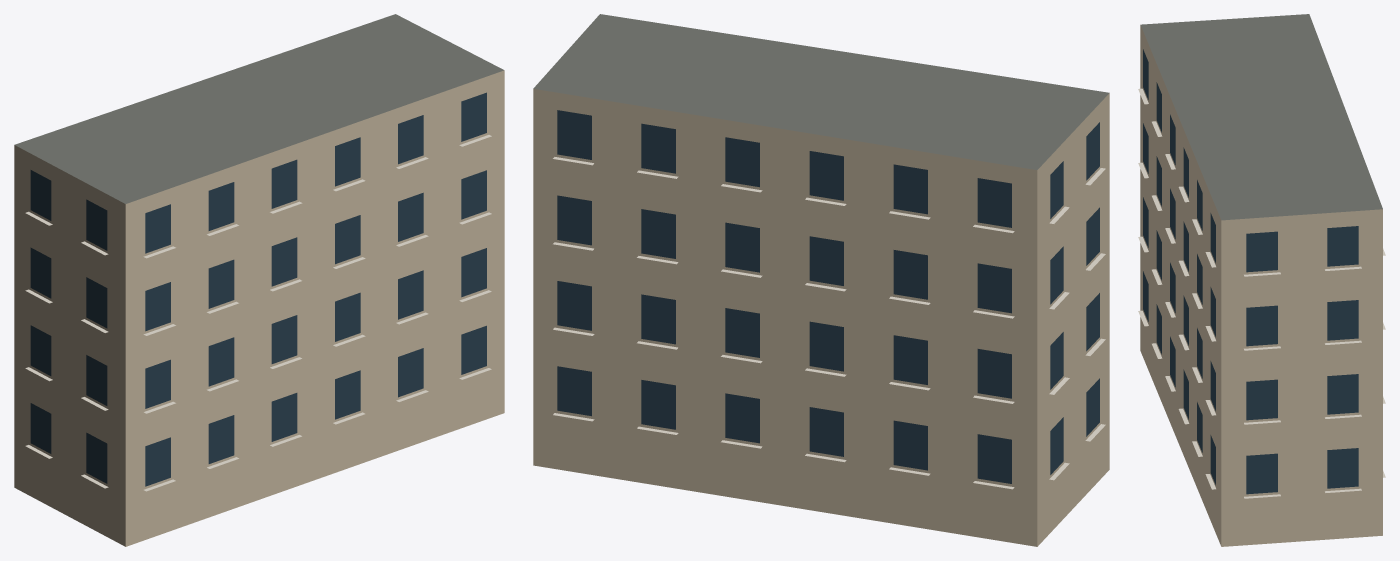
3 views of the same model, side by side, from view 1: azimuth 30°, elevation 25°; view 2: azimuth 150°, elevation 25°; view 3: azimuth 270°, elevation 25° (orthographic). The views are drawn at different scales.
Visible parts, largest first — view 1: Footprint 0, Inferred window bays, Window sills; view 2: Footprint 0, Inferred window bays, Window sills; view 3: Footprint 0, Inferred window bays, Window sills.
Boxes of the visible parts, x1,y1,x2,y2 form: Footprint 0: [14, 14, 504, 546]; Inferred window bays: [30, 92, 486, 486]; Window sills: [25, 135, 491, 491]; Footprint 0: [533, 14, 1109, 546]; Inferred window bays: [557, 110, 1099, 483]; Window sills: [553, 157, 1105, 489]; Footprint 0: [1140, 14, 1382, 546]; Inferred window bays: [1143, 49, 1358, 494]; Window sills: [1138, 88, 1385, 498].
Size of the model in its own units: 19.14 by 13.98 by 9.61.
